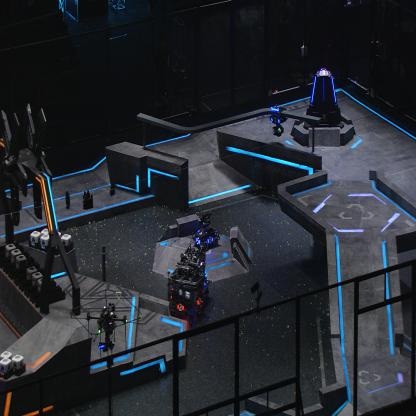car: (168, 257, 208, 322), (174, 244, 212, 299), (191, 211, 220, 250)
